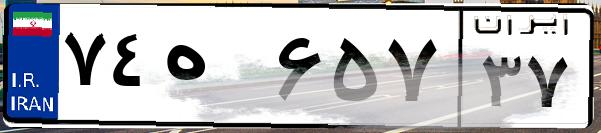3: (475, 38, 525, 113)
4: (110, 28, 158, 98)
5: (330, 28, 385, 110)
6: (270, 28, 330, 110)
7: (385, 28, 445, 110), (57, 26, 110, 100), (525, 38, 570, 115)
ه: (158, 20, 270, 120)
